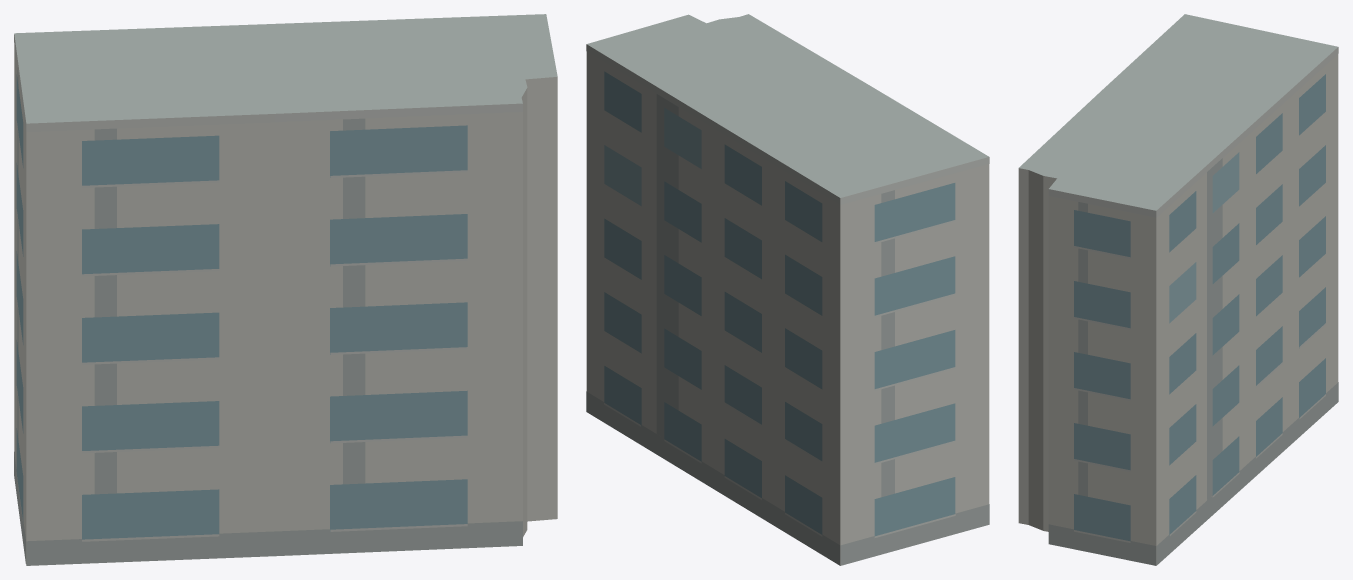
File: survey-upis-32733083.glb
The picture shows the model from 3 angles, left to right: view 1: azimuth 30°, elevation 25°; view 2: azimuth 150°, elevation 25°; view 3: azimuth 270°, elevation 25°; orthographic projection. The views are drawn at different scales.
Visible parts, largest first — view 1: survey-upis-32733083.tmp; view 2: survey-upis-32733083.tmp; view 3: survey-upis-32733083.tmp.
Boxes of the visible parts, bbox=[...] form: survey-upis-32733083.tmp: bbox=[14, 14, 557, 565]; survey-upis-32733083.tmp: bbox=[586, 14, 989, 565]; survey-upis-32733083.tmp: bbox=[1018, 14, 1338, 565].
Size of the model in its own units: 15.1 by 12.7 by 10.38.
